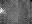person: (1, 8, 6, 14)
